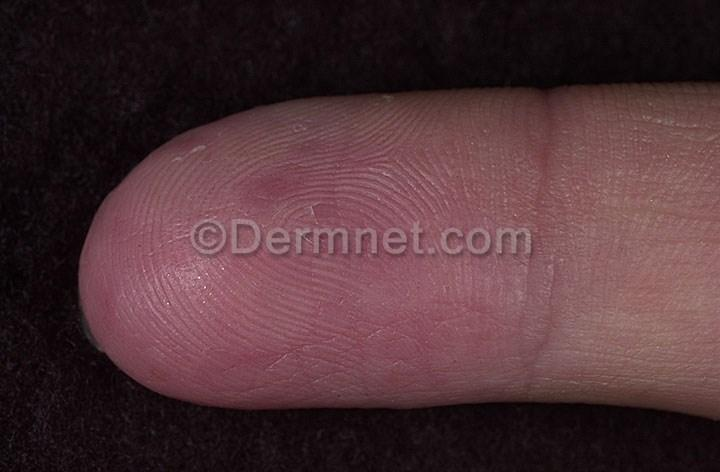Eczema: (426, 91, 632, 262), (238, 106, 425, 274), (91, 146, 250, 333), (399, 262, 563, 410), (251, 274, 394, 409), (152, 316, 249, 404)
